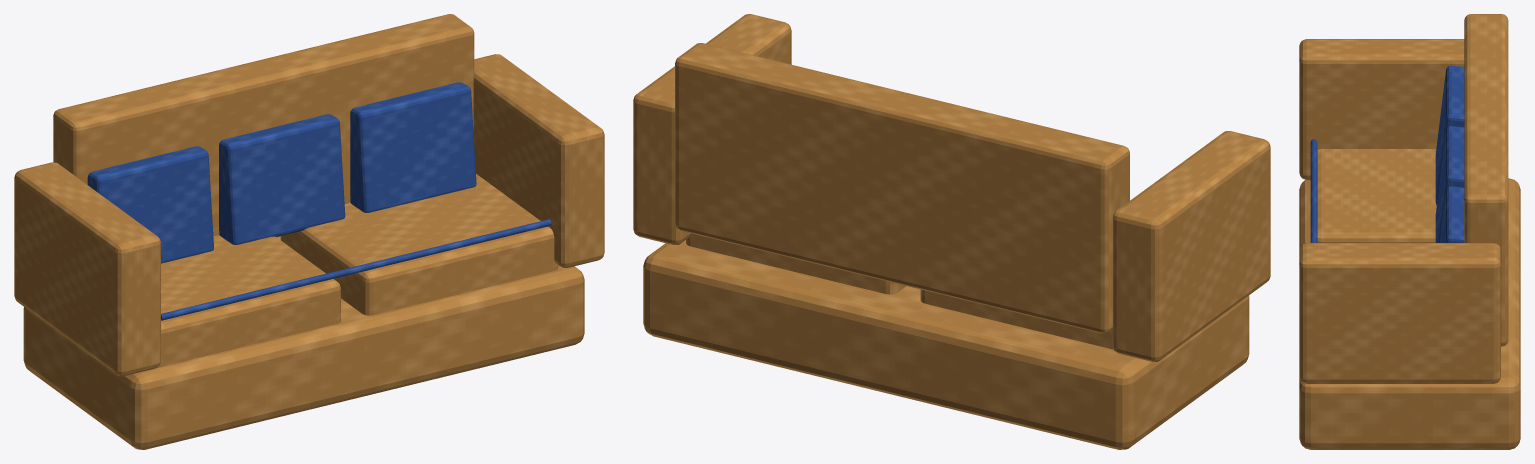
File: straight-sofa-pbr-v1.glb
The picture shows the model from 3 angles, left to right: view 1: azimuth 30°, elevation 25°; view 2: azimuth 150°, elevation 25°; view 3: azimuth 270°, elevation 25°; orthographic projection. The views are drawn at different scales.
Parts seen in each view (by area): view 1: straight-base, straight-back, straight-arm, straight-seat-right, straight-arm.001, straight-seat-left, straight-back-pillow-1, straight-back-pillow-2, straight-back-pillow-0, straight-front-piping; view 2: straight-back, straight-base, straight-arm, straight-arm.001, straight-seat-right, straight-seat-left; view 3: straight-arm.001, straight-base, straight-arm, straight-seat-left, straight-back, straight-back-pillow-0, straight-back-pillow-1, straight-back-pillow-2, straight-front-piping.
Part boxes in pixels (box(x1,y1,x2,y2)): straight-base: box(23, 236, 584, 449); straight-back: box(53, 14, 474, 236); straight-arm: box(14, 162, 160, 376); straight-seat-right: box(280, 174, 558, 315); straight-arm.001: box(473, 54, 604, 267); straight-seat-left: box(156, 235, 340, 368); straight-back-pillow-1: box(219, 114, 345, 244); straight-back-pillow-2: box(350, 82, 476, 212); straight-back-pillow-0: box(87, 146, 213, 263); straight-front-piping: box(161, 219, 551, 320); straight-back: box(675, 43, 1129, 333); straight-base: box(643, 240, 1249, 449); straight-arm: box(1112, 131, 1270, 361); straight-arm.001: box(633, 14, 791, 244); straight-seat-right: box(686, 233, 906, 294); straight-seat-left: box(920, 289, 1113, 349); straight-arm.001: box(1299, 243, 1500, 383); straight-base: box(1299, 178, 1520, 449); straight-arm: box(1299, 39, 1464, 179); straight-seat-left: box(1317, 149, 1436, 242); straight-back: box(1464, 14, 1508, 346); straight-back-pillow-0: box(1435, 65, 1464, 204); straight-back-pillow-1: box(1435, 126, 1464, 242); straight-back-pillow-2: box(1439, 186, 1464, 242); straight-front-piping: box(1310, 139, 1317, 242).
Size of the model in its own units: 2.16 by 1.14 by 0.9.
3 materials, 3 textured.
